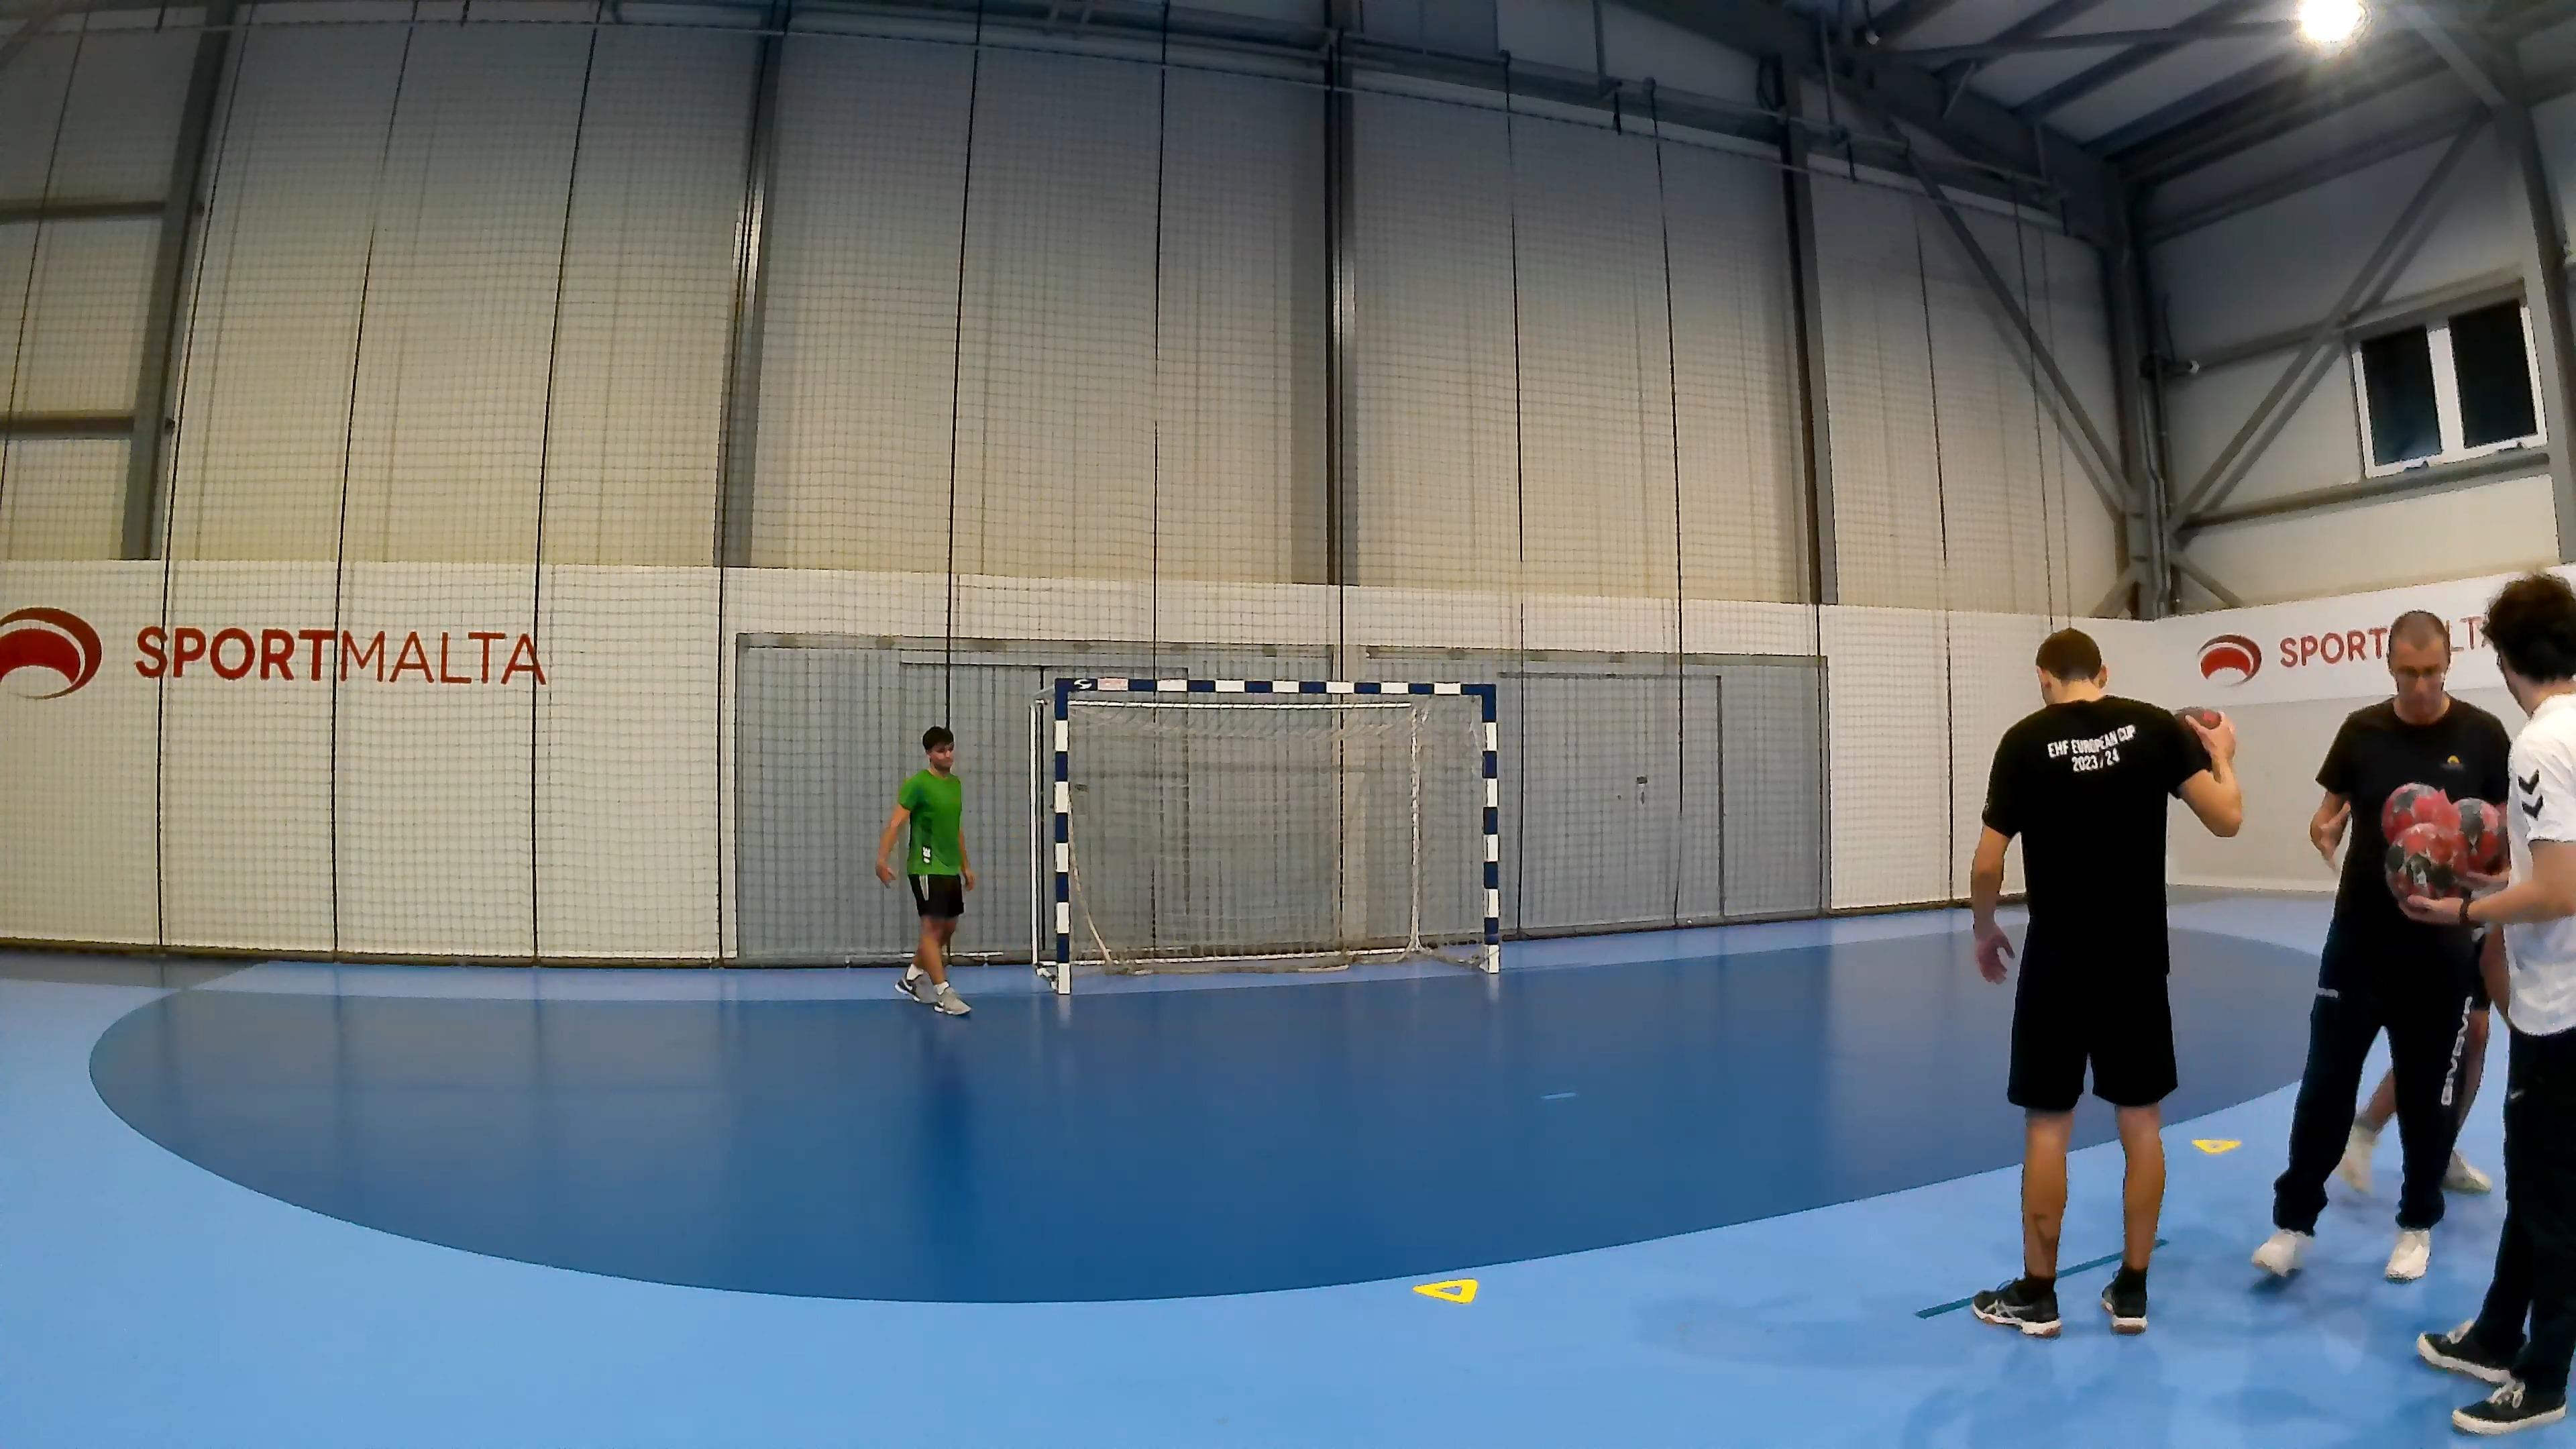handball: (2380, 780, 2465, 902), (2452, 796, 2503, 874)
